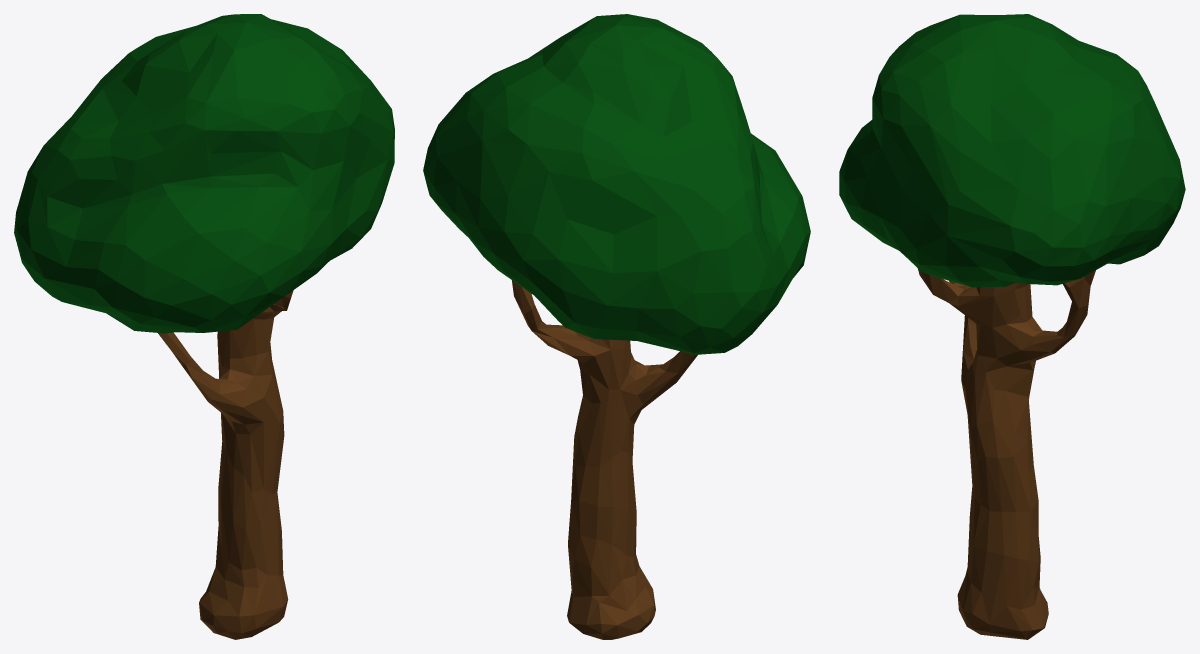
File: tamm.fbx
3 views of the same model, side by side, from view 1: azimuth 30°, elevation 25°; view 2: azimuth 150°, elevation 25°; view 3: azimuth 270°, elevation 25° (orthographic).
Visible parts, largest first — view 1: Cube; view 2: Cube; view 3: Cube.
Boxes of the visible parts, x1,y1,x2,y2 form: Cube: [14, 14, 394, 639]; Cube: [423, 14, 810, 639]; Cube: [839, 14, 1185, 639].
Bounding box in the file's own units: 1509 × 2503 × 1284.
